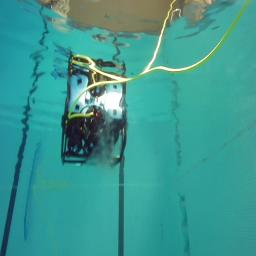back: (60, 96, 128, 170)
